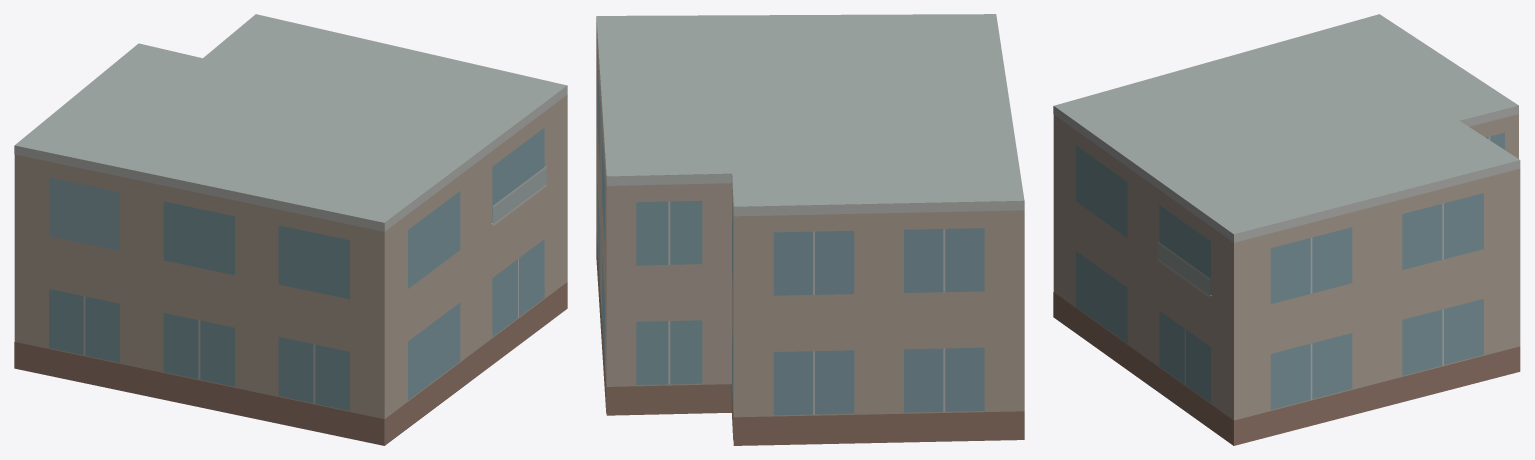
The model's file is survey-upis-32768805.glb.
The picture shows the model from 3 angles, left to right: view 1: azimuth 30°, elevation 25°; view 2: azimuth 150°, elevation 25°; view 3: azimuth 270°, elevation 25°; orthographic projection. The views are drawn at different scales.
Parts seen in each view (by area): view 1: survey-upis-32768805.tmp; view 2: survey-upis-32768805.tmp; view 3: survey-upis-32768805.tmp.
Boxes of the visible parts, x1,y1,x2,y2 form: survey-upis-32768805.tmp: (14, 14, 567, 445); survey-upis-32768805.tmp: (596, 14, 1024, 445); survey-upis-32768805.tmp: (1053, 14, 1520, 445).
Size of the model in its own units: 13.64 by 6.1 by 12.21.
